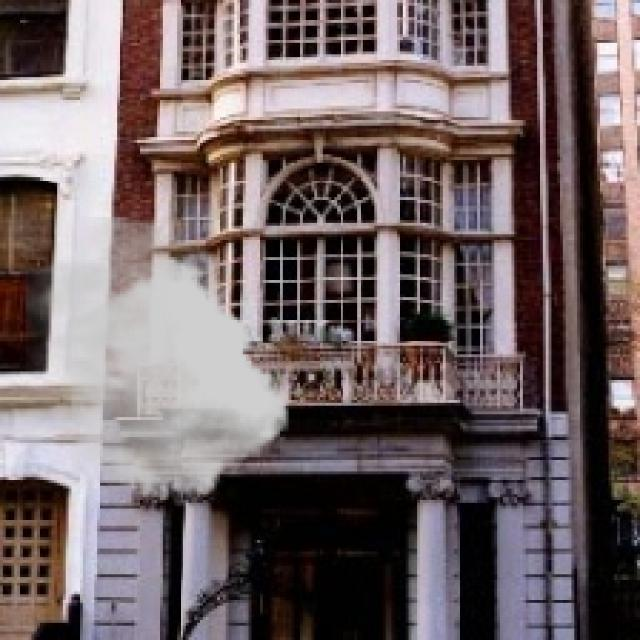smoke: (25, 217, 288, 500)
